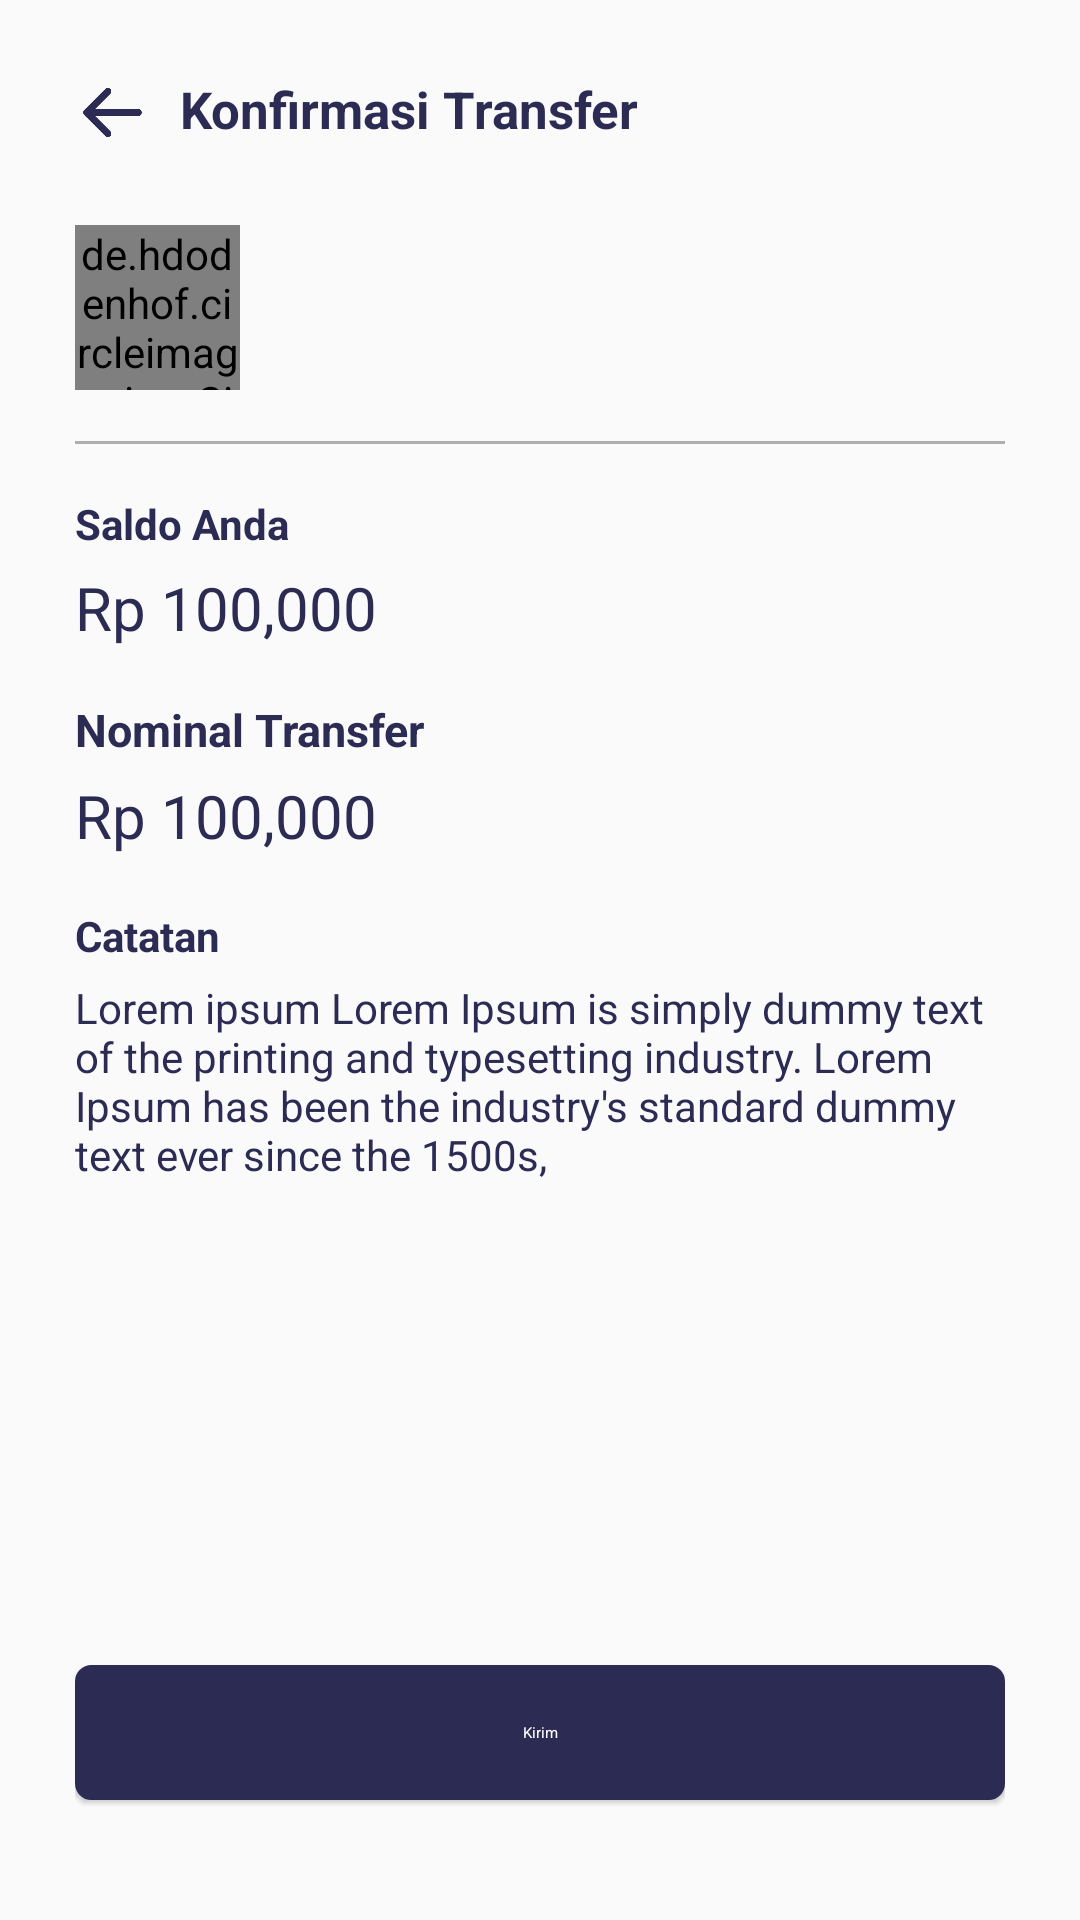

Icons on this 1080px x 1920px Android screen, each with the point to tap as [x,y]:
arrow back: [112,112]
